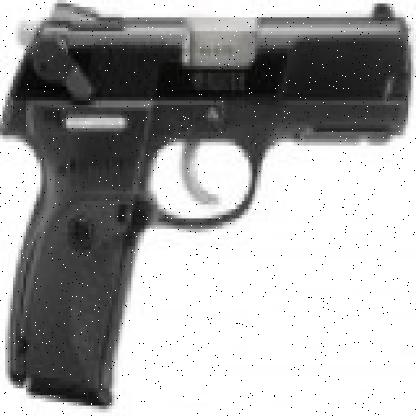pistol: (3, 3, 409, 402)
